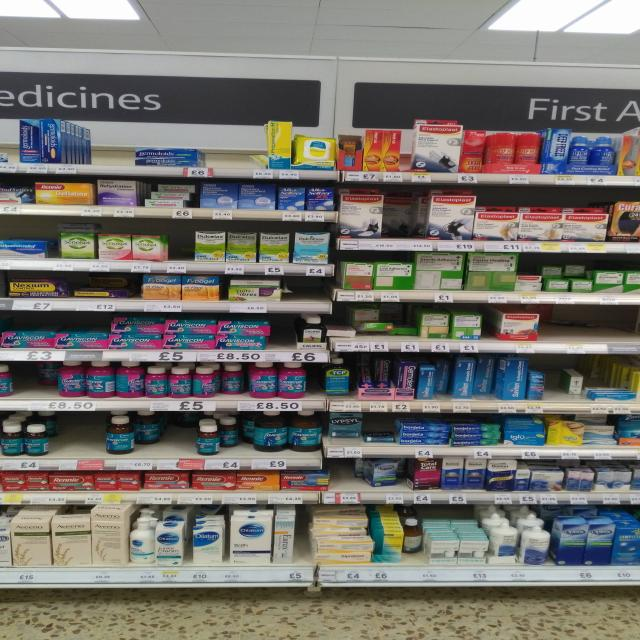void: (59, 413, 102, 471), (199, 114, 233, 177), (63, 119, 98, 173), (285, 276, 334, 312), (235, 117, 263, 178), (101, 117, 130, 175), (333, 462, 368, 504), (606, 310, 638, 354), (167, 223, 194, 272)
